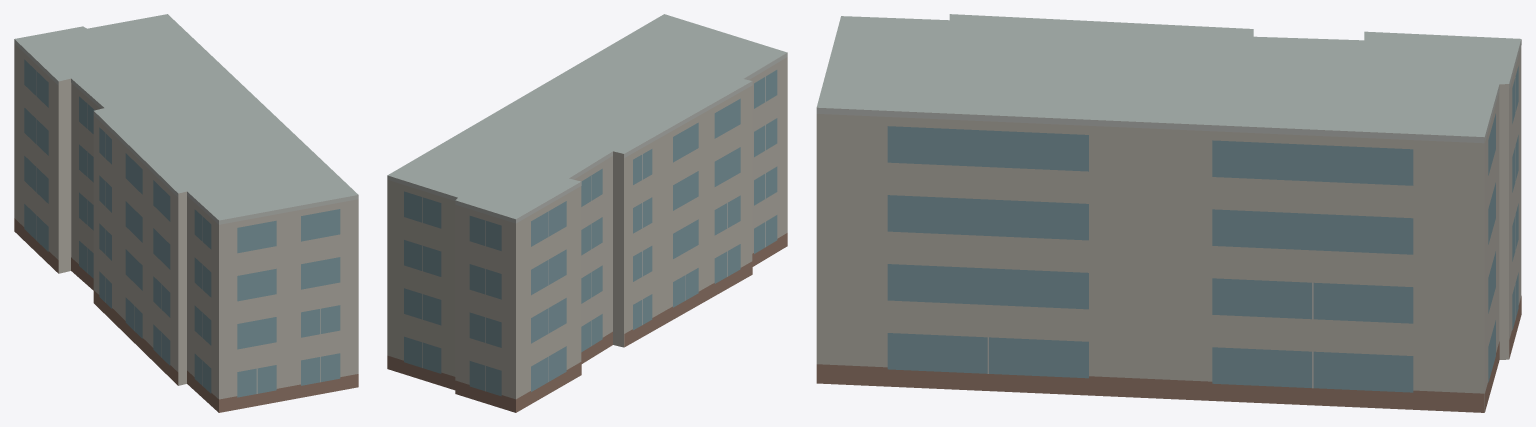
The model's file is survey-upis-32922220.glb.
3 views of the same model, side by side, from view 1: azimuth 30°, elevation 25°; view 2: azimuth 150°, elevation 25°; view 3: azimuth 270°, elevation 25° (orthographic). The views are drawn at different scales.
Visible parts, largest first — view 1: survey-upis-32922220.tmp; view 2: survey-upis-32922220.tmp; view 3: survey-upis-32922220.tmp.
Boxes of the visible parts, box(x1,y1,x2,y2) form: survey-upis-32922220.tmp: box(14, 14, 358, 412); survey-upis-32922220.tmp: box(387, 14, 787, 412); survey-upis-32922220.tmp: box(816, 14, 1521, 412).
Bounding box in the file's own units: 10.55 × 11 × 25.5.
